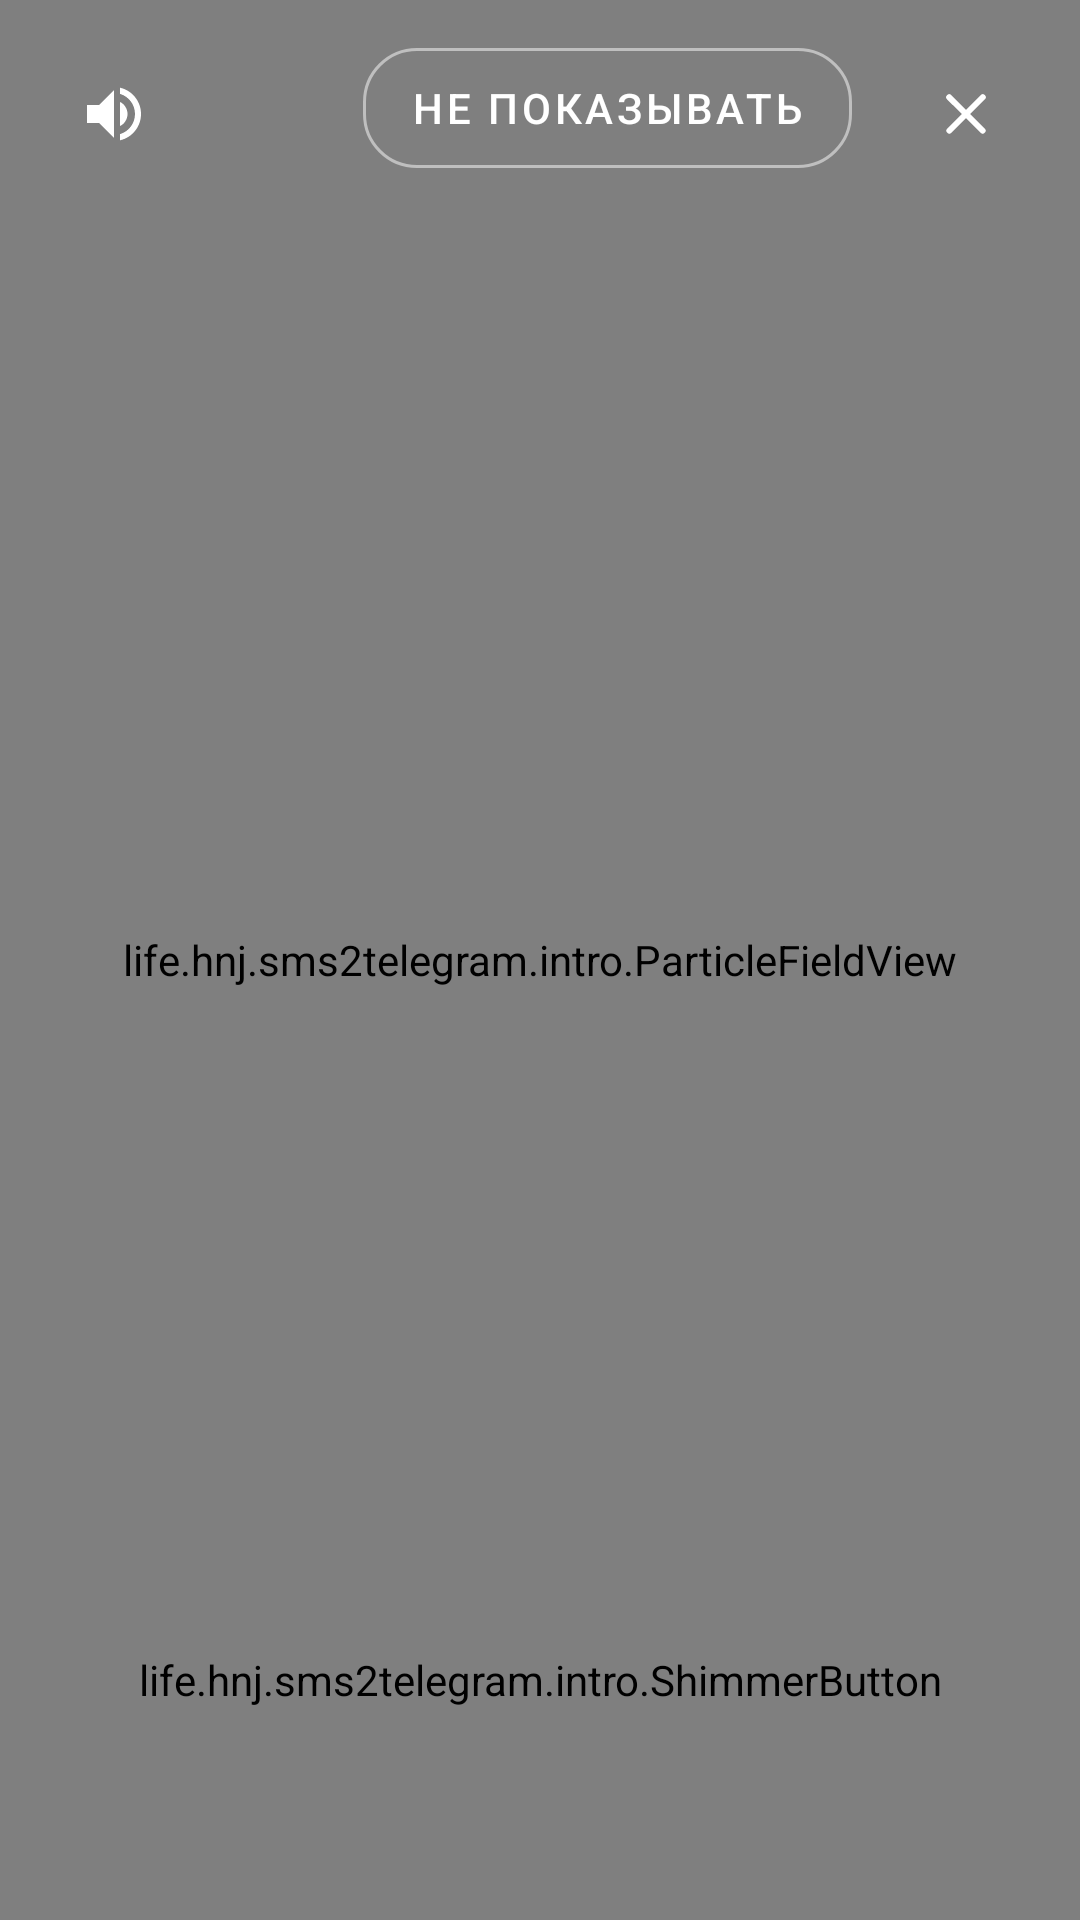

Where to tap for icons on this 1080px×1920px app screen, as point (x, y):
Выключить звук: point (114, 114)
